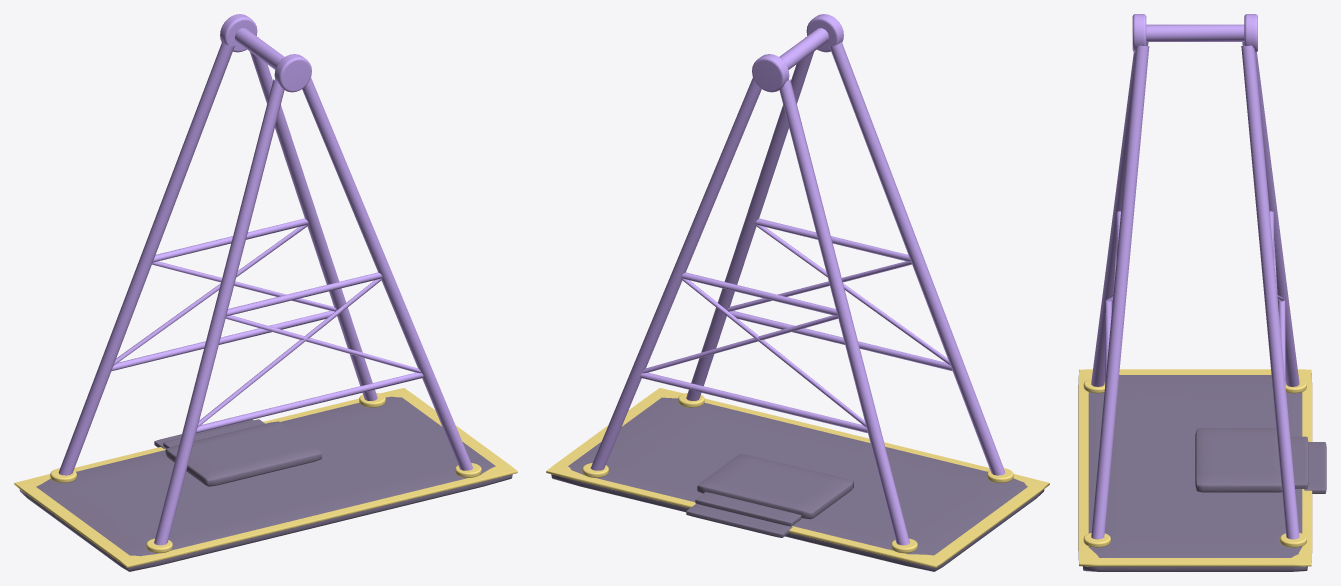
File: LobbyFerrisStand.glb
3 renders of one model, left to right at view 1: azimuth 30°, elevation 25°; view 2: azimuth 150°, elevation 25°; view 3: azimuth 270°, elevation 25°, orthographic. The views are drawn at different scales.
Parts seen in each view (by area): view 1: Base, Legs, Trim; view 2: Base, Legs, Trim; view 3: Base, Legs, Trim.
Part boxes in pixels (box(x1,y1,x2,y2)): Base: box(19, 396, 512, 571); Legs: box(58, 14, 473, 545); Trim: box(14, 388, 517, 567); Base: box(551, 397, 1044, 571); Legs: box(590, 14, 1005, 545); Trim: box(546, 388, 1049, 567); Base: box(1082, 375, 1326, 571); Legs: box(1091, 14, 1299, 539); Trim: box(1078, 369, 1312, 566).
Bounding box in the file's own units: 40.5 × 44.7 × 21.75.
